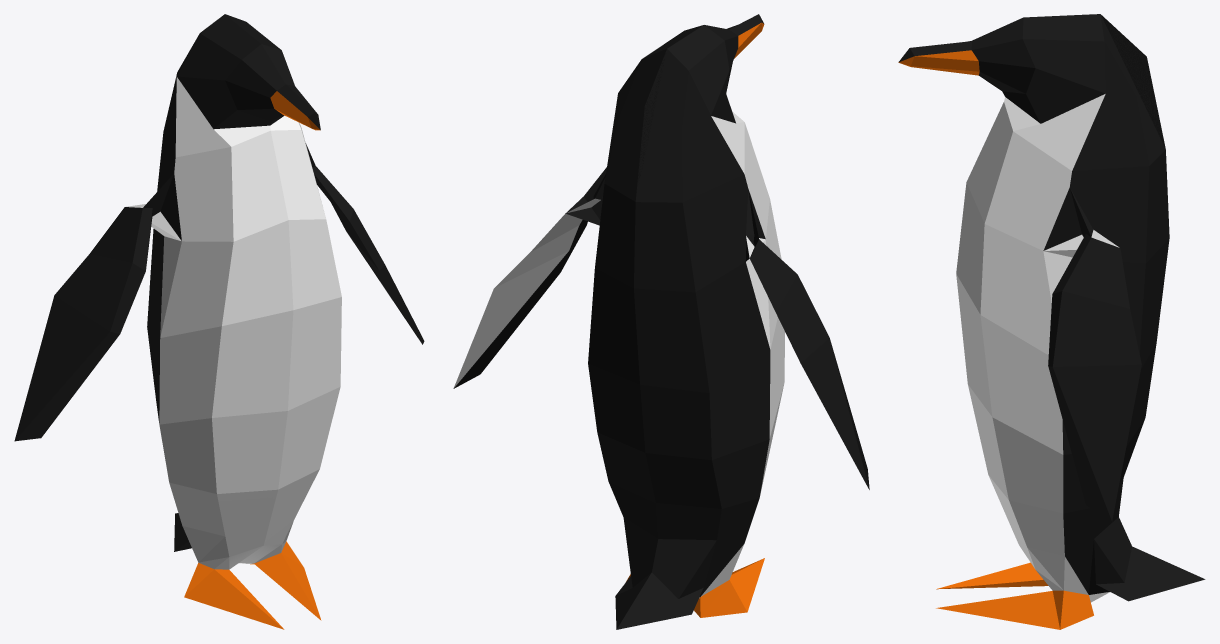
File: Penguin_Stand.fbx
3 renders of one model, left to right at view 1: azimuth 30°, elevation 25°; view 2: azimuth 150°, elevation 25°; view 3: azimuth 270°, elevation 25°, orthographic. The views are drawn at different scales.
Parts seen in each view (by area): view 1: Cube.001; view 2: Cube.001; view 3: Cube.001.
Part boxes in pixels (x1,y1,x2,y2): Cube.001: (14, 14, 424, 629); Cube.001: (453, 14, 869, 629); Cube.001: (898, 14, 1205, 629).
Size of the model in its own units: 155 by 200 by 95.34.
